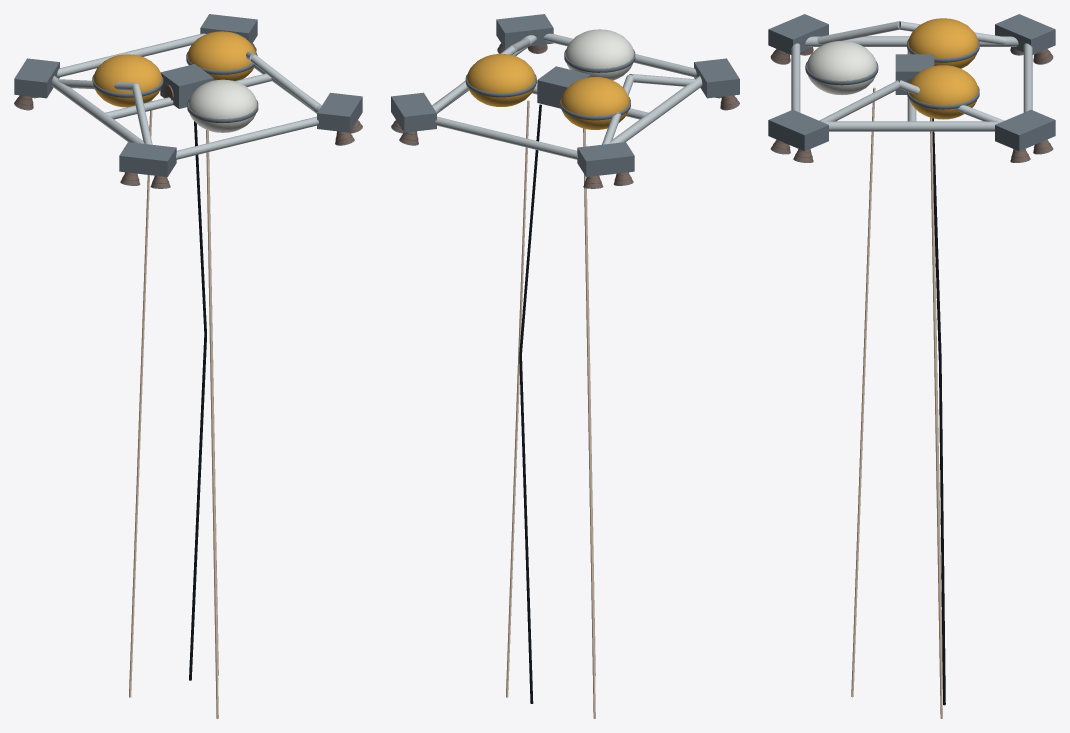
The model's file is mars_descent_stage_lowering.glb.
The picture shows the model from 3 angles, left to right: view 1: azimuth 30°, elevation 25°; view 2: azimuth 150°, elevation 25°; view 3: azimuth 270°, elevation 25°; orthographic projection. The views are drawn at different scales.
Parts seen in each view (by area): view 1: mars_descent_stage.aluminum_frame.mesh_Satin_aluminum, mars_descent_stage.propellant_tank_03.mesh_Pale_thermal_blan, mars_descent_stage.propellant_tank_01.mesh_Gold_thermal_insu, mars_descent_stage.propellant_tank_02.mesh_Gold_thermal_insu, mars_descent_stage.umbilical.mesh_Shadowed_interior, mars_descent_stage.bridle_01.mesh_Parachute_canopy_fabric, mars_descent_stage.bridle_03.mesh_Parachute_canopy_fabric, mars_descent_stage.landing_engines_04.mesh_Machined_steel, mars_descent_stage.landing_engines_01.mesh_Machined_steel, mars_descent_stage.landing_engines_03.mesh_Machined_steel, mars_descent_stage.winch.mesh_Machined_steel, mars_descent_stage.landing_engines_02.mesh_Machined_steel (+1 smaller); view 2: mars_descent_stage.aluminum_frame.mesh_Satin_aluminum, mars_descent_stage.propellant_tank_02.mesh_Gold_thermal_insu, mars_descent_stage.propellant_tank_01.mesh_Gold_thermal_insu, mars_descent_stage.propellant_tank_03.mesh_Pale_thermal_blan, mars_descent_stage.umbilical.mesh_Shadowed_interior, mars_descent_stage.bridle_02.mesh_Parachute_canopy_fabric, mars_descent_stage.landing_engines_03.mesh_Machined_steel, mars_descent_stage.bridle_03.mesh_Parachute_canopy_fabric, mars_descent_stage.landing_engines_02.mesh_Machined_steel, mars_descent_stage.landing_engines_01.mesh_Machined_steel, mars_descent_stage.landing_engines_04.mesh_Machined_steel, mars_descent_stage.winch.mesh_Machined_steel (+1 smaller); view 3: mars_descent_stage.aluminum_frame.mesh_Satin_aluminum, mars_descent_stage.propellant_tank_03.mesh_Pale_thermal_blan, mars_descent_stage.propellant_tank_02.mesh_Gold_thermal_insu, mars_descent_stage.propellant_tank_01.mesh_Gold_thermal_insu, mars_descent_stage.umbilical.mesh_Shadowed_interior, mars_descent_stage.bridle_02.mesh_Parachute_canopy_fabric, mars_descent_stage.bridle_01.mesh_Parachute_canopy_fabric, mars_descent_stage.landing_engines_01.mesh_Machined_steel, mars_descent_stage.landing_engines_02.mesh_Machined_steel, mars_descent_stage.landing_engines_03.mesh_Machined_steel, mars_descent_stage.landing_engines_04.mesh_Machined_steel, mars_descent_stage.winch.mesh_Machined_steel (+1 smaller).
Part boxes in pixels (x1,y1,x2,y2): mars_descent_stage.aluminum_frame.mesh_Satin_aluminum: (51, 33, 321, 159); mars_descent_stage.propellant_tank_03.mesh_Pale_thermal_blan: (188, 79, 257, 132); mars_descent_stage.propellant_tank_01.mesh_Gold_thermal_insu: (93, 54, 162, 107); mars_descent_stage.propellant_tank_02.mesh_Gold_thermal_insu: (187, 31, 256, 80); mars_descent_stage.umbilical.mesh_Shadowed_interior: (189, 121, 206, 680); mars_descent_stage.bridle_01.mesh_Parachute_canopy_fabric: (206, 129, 218, 718); mars_descent_stage.bridle_03.mesh_Parachute_canopy_fabric: (129, 100, 152, 697); mars_descent_stage.landing_engines_04.mesh_Machined_steel: (119, 142, 176, 176); mars_descent_stage.landing_engines_01.mesh_Machined_steel: (317, 92, 362, 132); mars_descent_stage.landing_engines_03.mesh_Machined_steel: (14, 58, 59, 98); mars_descent_stage.winch.mesh_Machined_steel: (160, 64, 213, 108); mars_descent_stage.landing_engines_02.mesh_Machined_steel: (200, 14, 257, 43); mars_descent_stage.aluminum_frame.mesh_Satin_aluminum: (432, 33, 702, 159); mars_descent_stage.propellant_tank_02.mesh_Gold_thermal_insu: (466, 54, 535, 106); mars_descent_stage.propellant_tank_01.mesh_Gold_thermal_insu: (561, 77, 629, 129); mars_descent_stage.propellant_tank_03.mesh_Pale_thermal_blan: (565, 29, 634, 80); mars_descent_stage.umbilical.mesh_Shadowed_interior: (519, 104, 541, 703); mars_descent_stage.bridle_02.mesh_Parachute_canopy_fabric: (506, 100, 529, 697); mars_descent_stage.landing_engines_03.mesh_Machined_steel: (577, 142, 634, 176); mars_descent_stage.bridle_03.mesh_Parachute_canopy_fabric: (583, 128, 595, 718); mars_descent_stage.landing_engines_02.mesh_Machined_steel: (391, 92, 436, 132); mars_descent_stage.landing_engines_01.mesh_Machined_steel: (496, 14, 553, 48); mars_descent_stage.landing_engines_04.mesh_Machined_steel: (694, 58, 739, 98); mars_descent_stage.winch.mesh_Machined_steel: (537, 66, 590, 108); mars_descent_stage.aluminum_frame.mesh_Satin_aluminum: (791, 21, 1032, 131); mars_descent_stage.propellant_tank_03.mesh_Pale_thermal_blan: (806, 41, 876, 94); mars_descent_stage.propellant_tank_02.mesh_Gold_thermal_insu: (909, 65, 978, 119); mars_descent_stage.propellant_tank_01.mesh_Gold_thermal_insu: (908, 18, 978, 68); mars_descent_stage.umbilical.mesh_Shadowed_interior: (932, 118, 945, 705); mars_descent_stage.bridle_02.mesh_Parachute_canopy_fabric: (930, 117, 942, 718); mars_descent_stage.bridle_01.mesh_Parachute_canopy_fabric: (851, 87, 875, 697); mars_descent_stage.landing_engines_01.mesh_Machined_steel: (768, 110, 828, 151); mars_descent_stage.landing_engines_02.mesh_Machined_steel: (995, 110, 1055, 151); mars_descent_stage.landing_engines_03.mesh_Machined_steel: (995, 14, 1055, 54); mars_descent_stage.landing_engines_04.mesh_Machined_steel: (768, 14, 828, 54); mars_descent_stage.winch.mesh_Machined_steel: (895, 54, 934, 94).
Bounding box in the file's own units: 2.74 × 6.87 × 2.74.
